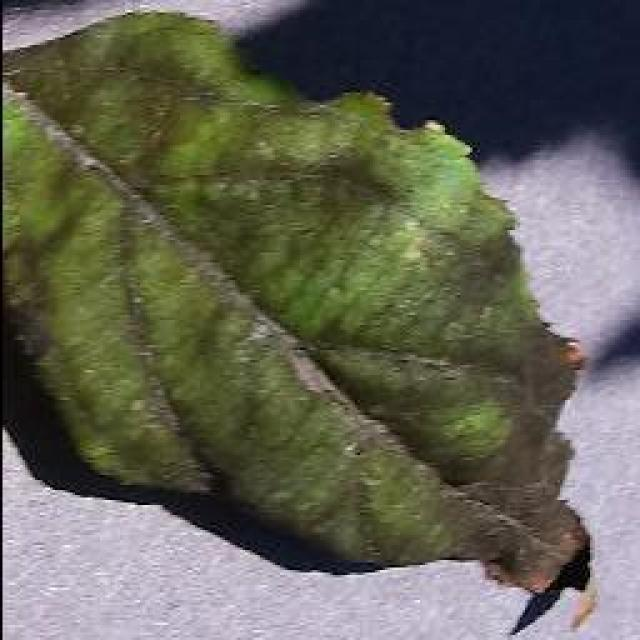apple scab disease: (0, 5, 598, 625)
